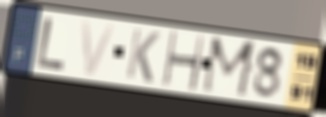8: (251, 46, 286, 100)
H: (161, 29, 207, 94)
K: (124, 26, 162, 86)
L: (35, 15, 69, 72)
M: (199, 35, 260, 100)
V: (79, 18, 119, 78)
